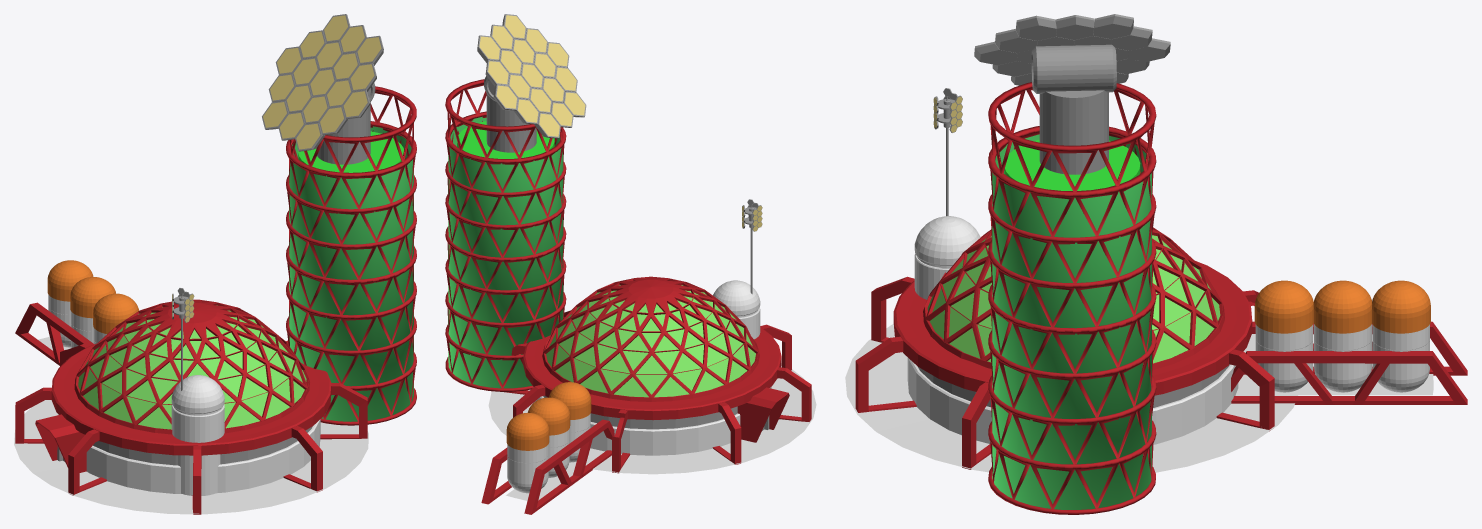
The model's file is Eco_Hub.fbx.
The picture shows the model from 3 angles, left to right: view 1: azimuth 30°, elevation 25°; view 2: azimuth 150°, elevation 25°; view 3: azimuth 270°, elevation 25°; orthographic projection. The views are drawn at different scales.
Parts seen in each view (by area): view 1: Sphere.007; view 2: Sphere.007; view 3: Sphere.007.
Boxes of the visible parts, bbox=[...] form: Sphere.007: bbox=[14, 14, 416, 514]; Sphere.007: bbox=[445, 14, 816, 514]; Sphere.007: bbox=[845, 14, 1467, 514].
Bounding box in the file's own units: 1578 × 1525 × 1793.
